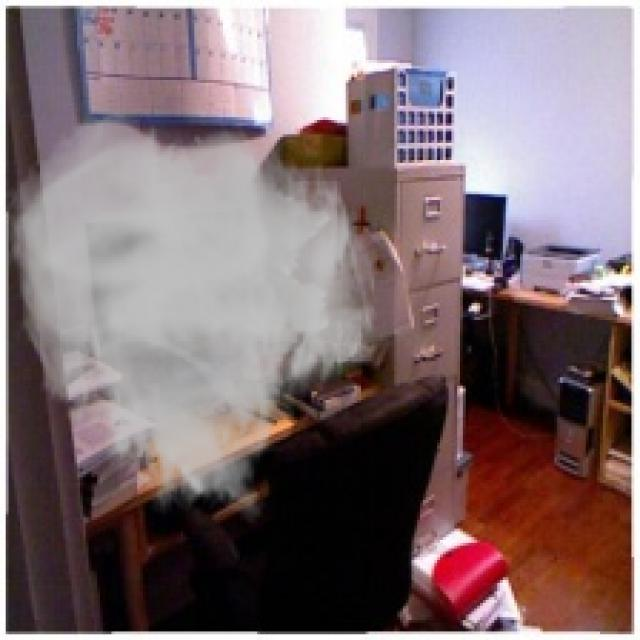smoke: (3, 108, 380, 526)
